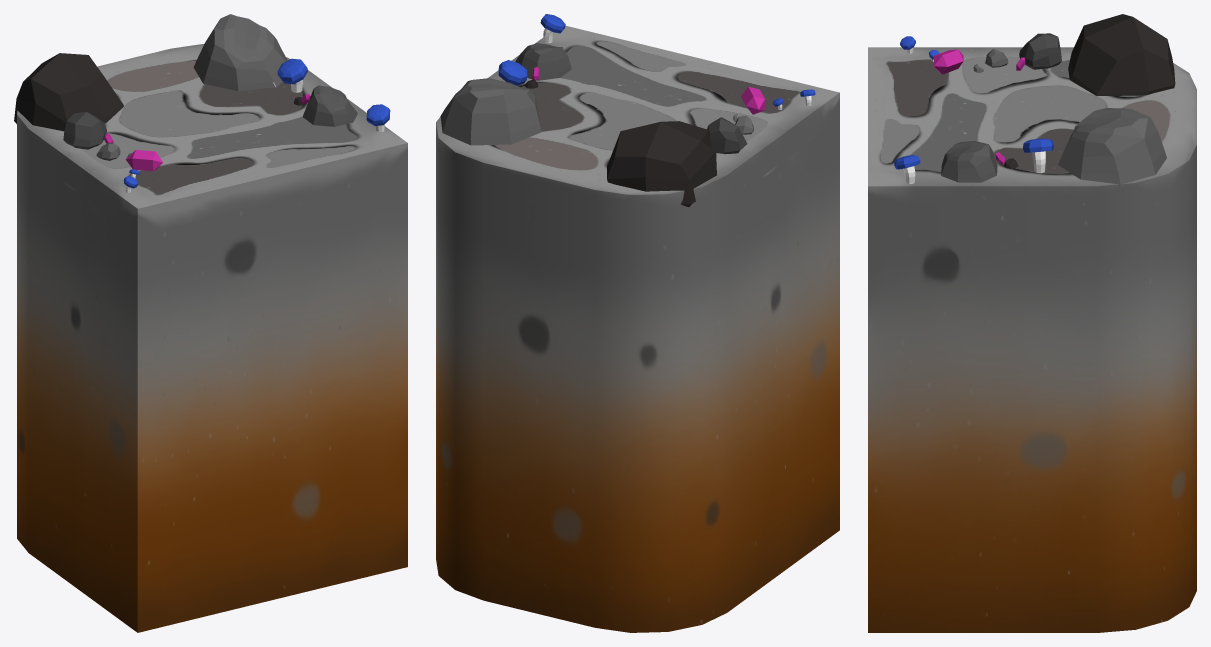
File: InicioCueva.fbx
3 views of the same model, side by side, from view 1: azimuth 30°, elevation 25°; view 2: azimuth 150°, elevation 25°; view 3: azimuth 270°, elevation 25° (orthographic). The views are drawn at different scales.
Parts seen in each view (by area): view 1: InicioCueva, Cube.021, Cube.022, Cube.016, Cube.018, Cylinder.021, Cube.077; view 2: InicioCueva, Cube.021, Cube.022, Cube.016, Cube.018, Cube.077; view 3: InicioCueva, Cube.021, Cube.022, Cube.016, Cube.018, Cylinder.021.
Boxes of the visible parts, x1,y1,x2,y2 form: InicioCueva: (17,43,407,632); Cube.021: (14,53,123,131); Cube.022: (193,14,287,91); Cube.016: (302,85,357,126); Cube.018: (63,112,106,149); Cylinder.021: (126,150,162,171); Cube.077: (277,58,307,84); InicioCueva: (436,25,839,632); Cube.021: (607,121,716,206); Cube.022: (440,78,541,145); Cube.016: (515,43,571,80); Cube.018: (707,117,747,154); Cube.077: (498,60,527,85); InicioCueva: (868,47,1196,632); Cube.021: (1068,14,1175,95); Cube.022: (1058,108,1166,186); Cube.016: (941,141,997,182); Cube.018: (1019,33,1061,69); Cylinder.021: (934,49,963,74).
Size of the model in its own units: 1000 by 1684 by 1000.
